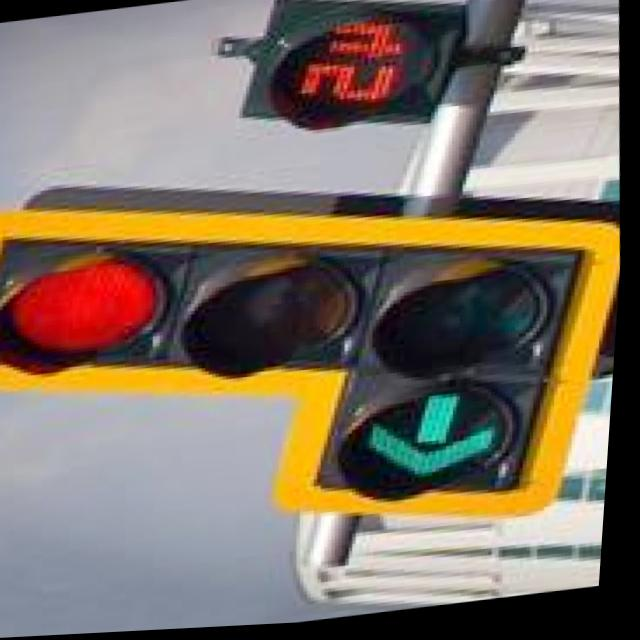red_light: (0, 233, 195, 391)
